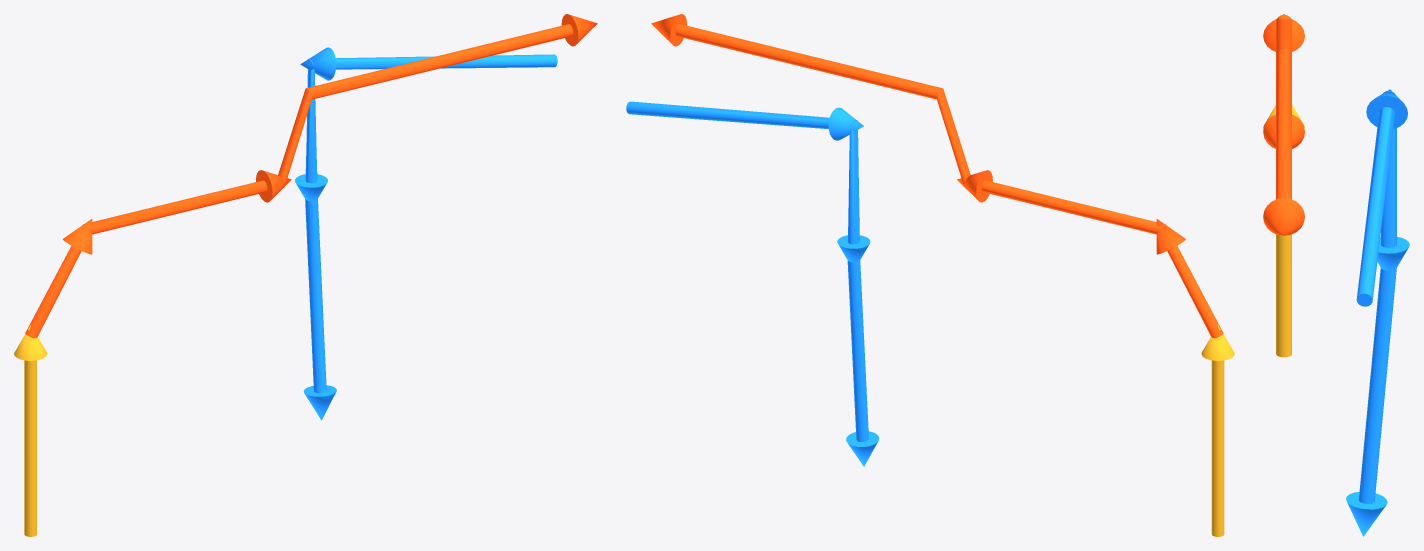
The model's file is hydraulic_power_unit_flow.glb.
3 renders of one model, left to right at view 1: azimuth 30°, elevation 25°; view 2: azimuth 150°, elevation 25°; view 3: azimuth 270°, elevation 25°, orthographic. The views are drawn at different scales.
Visible parts, largest first — view 1: pressure_line, return_line, suction; view 2: pressure_line, return_line, suction; view 3: return_line, pressure_line, suction.
Boxes of the visible parts, x1,y1,x2,y2 form: pressure_line: (25,14,597,338); return_line: (295,47,557,420); suction: (14,325,47,536); pressure_line: (651,14,1223,338); return_line: (626,101,879,466); suction: (1201,325,1234,536); return_line: (1346,89,1409,536); pressure_line: (1263,14,1304,235); suction: (1263,105,1304,357).
Bounding box in the file's own units: 1.05 × 0.666 × 0.182.
